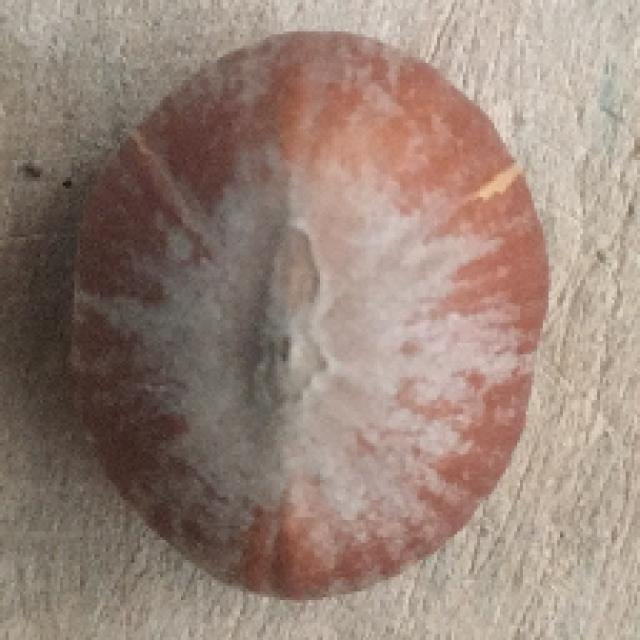QualityHazelnut: (66, 30, 549, 602)
